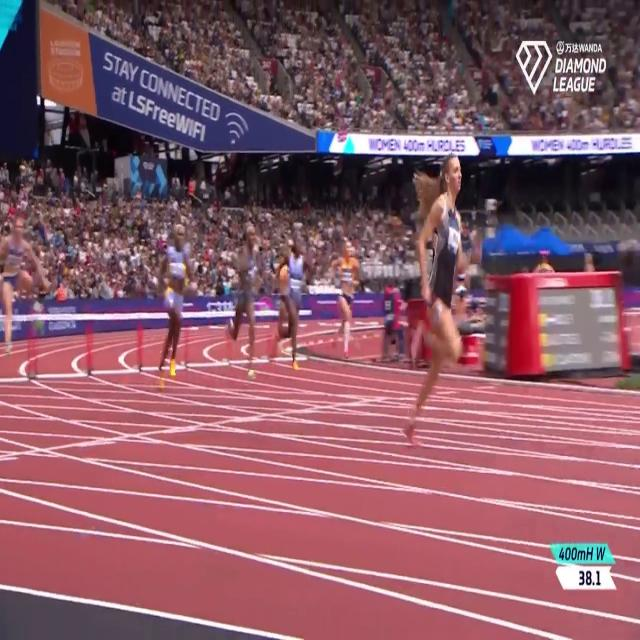athlete: (396, 138, 479, 465), (154, 212, 198, 406), (225, 215, 267, 395), (0, 212, 49, 360), (328, 230, 363, 376), (280, 212, 310, 372)
hurdle: (35, 307, 92, 375), (96, 311, 142, 380), (0, 313, 36, 392), (186, 308, 232, 368), (225, 308, 271, 368), (268, 307, 316, 363), (144, 313, 188, 371)
